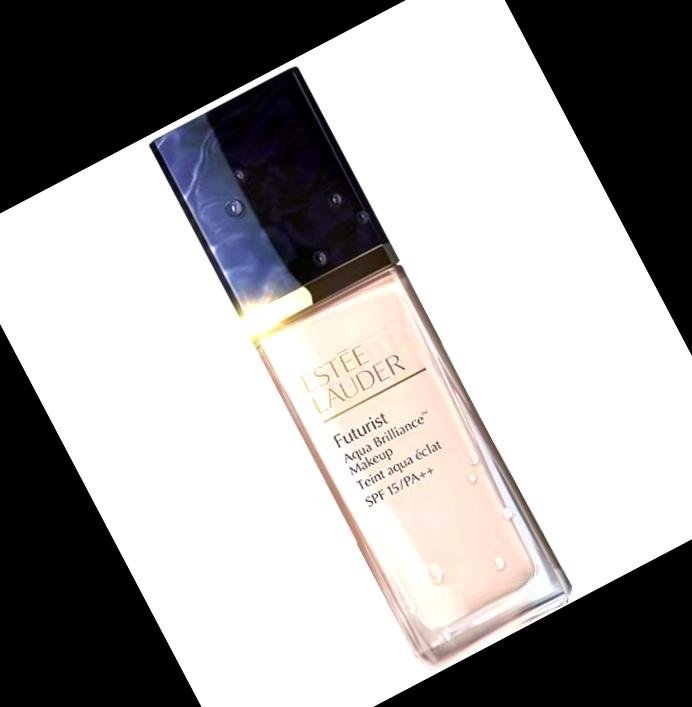cosmetic: (145, 61, 579, 675)
